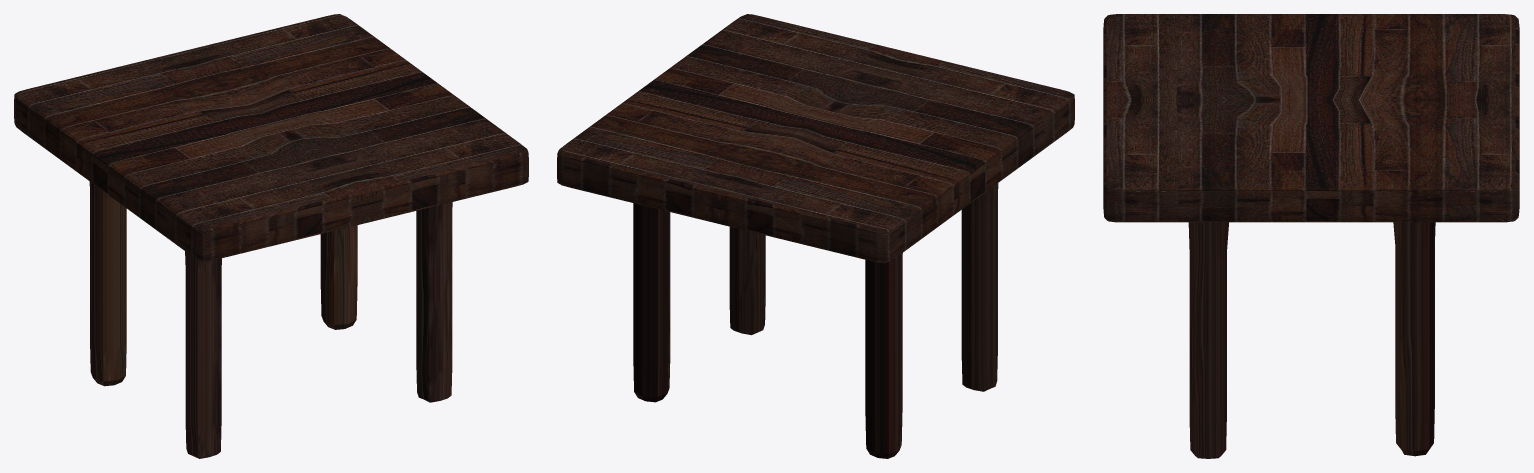
Rendered from Table.fbx.
3 views of the same model, side by side, from view 1: azimuth 30°, elevation 25°; view 2: azimuth 150°, elevation 25°; view 3: azimuth 270°, elevation 25° (orthographic). The views are drawn at different scales.
Visible parts, largest first — view 1: Table; view 2: Table; view 3: Table.
Boxes of the visible parts, x1,y1,x2,y2 form: Table: [14, 14, 528, 458]; Table: [557, 14, 1074, 458]; Table: [1103, 14, 1519, 458].
Bounding box in the file's own units: 200 × 155 × 200.
1 material, 1 textured.
